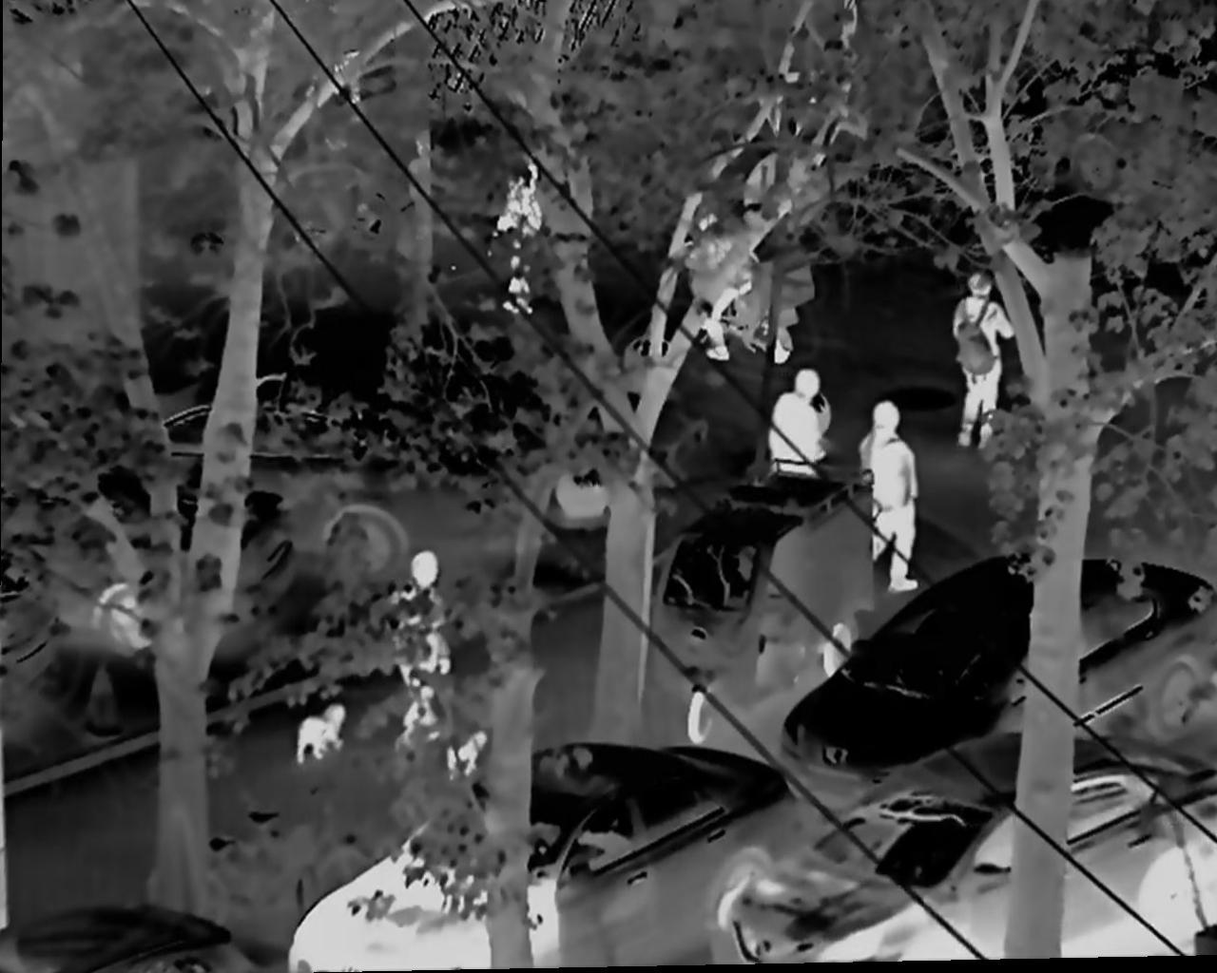person: (854, 391, 931, 588), (713, 166, 788, 368), (947, 279, 1018, 462), (386, 542, 443, 751), (490, 154, 554, 329), (765, 365, 824, 497)
